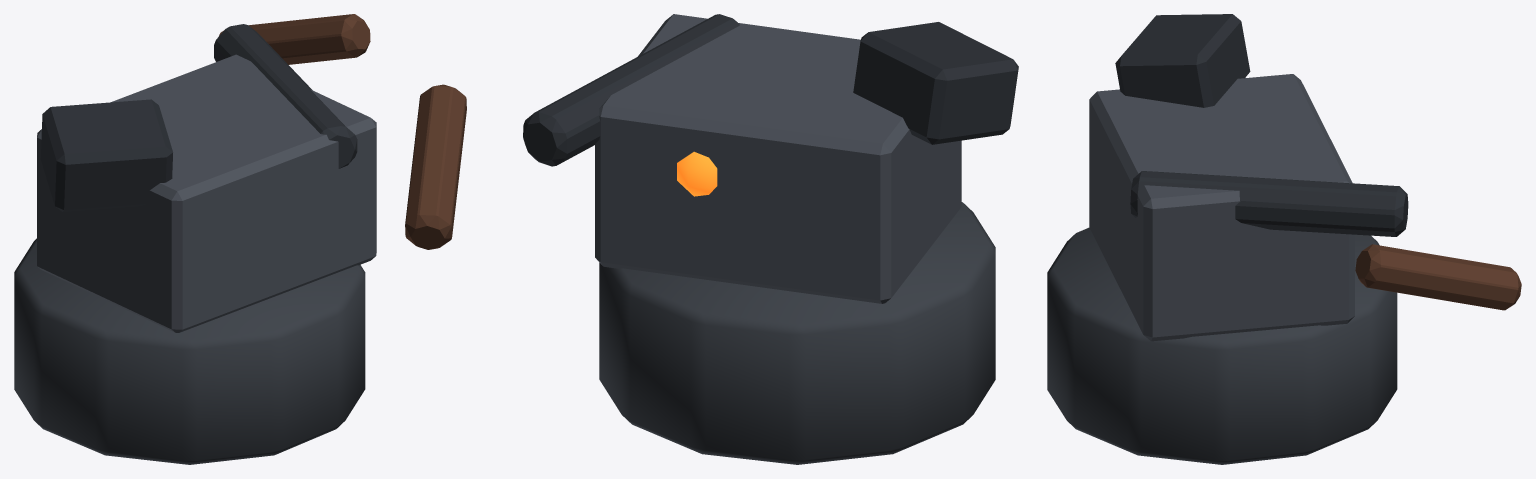
Rendered from broken_turret.glb.
3 views of the same model, side by side, from view 1: azimuth 30°, elevation 25°; view 2: azimuth 150°, elevation 25°; view 3: azimuth 270°, elevation 25° (orthographic). The views are drawn at different scales.
Parts seen in each view (by area): view 1: prop.broken_turret; view 2: prop.broken_turret; view 3: prop.broken_turret.
Part boxes in pixels (x1,y1,x2,y2): prop.broken_turret: (14,14,376,464); prop.broken_turret: (405,14,1018,464); prop.broken_turret: (1047,14,1521,464).
Bounding box in the file's own units: 1.54 × 1.1 × 1.5.
